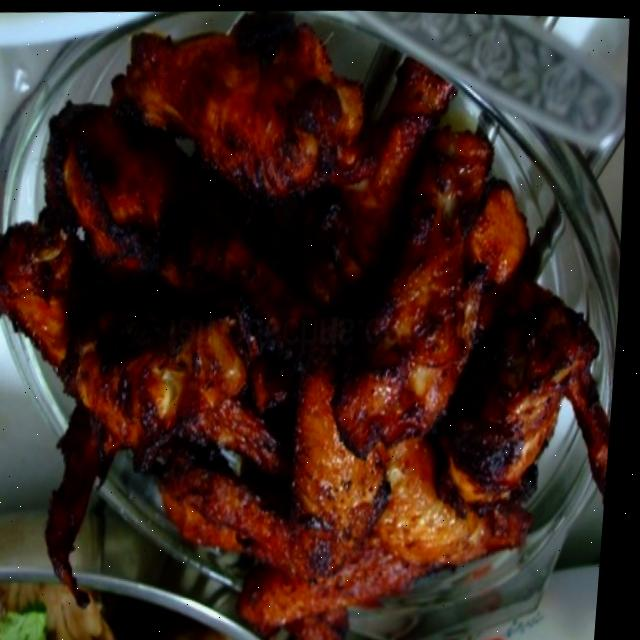鸡肉料理 含炸鸡: (0, 9, 640, 640)
